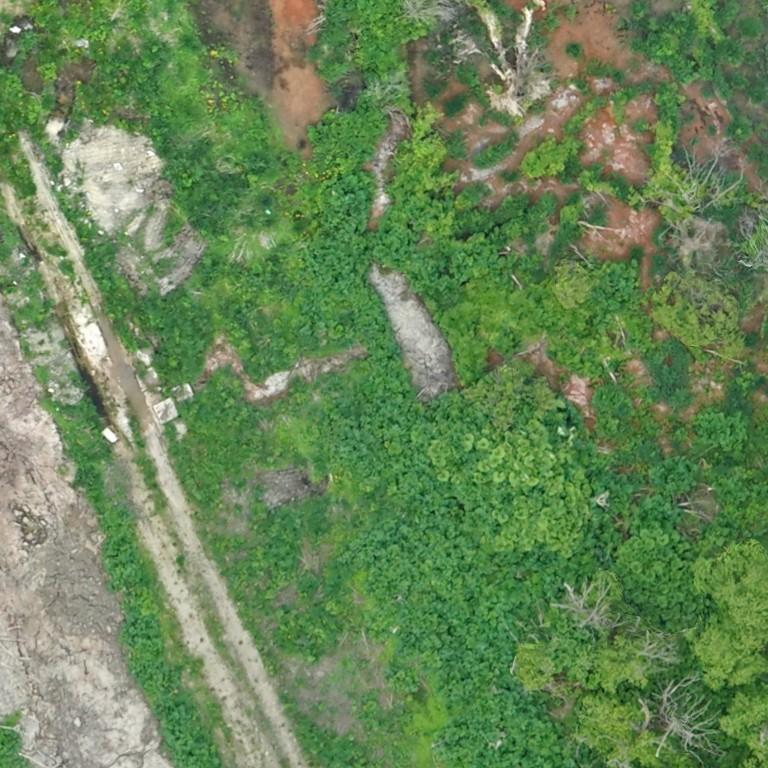hogweed: (295, 173, 645, 767), (77, 466, 221, 767), (640, 456, 697, 527), (693, 407, 752, 448), (593, 385, 631, 416), (0, 727, 25, 767)
